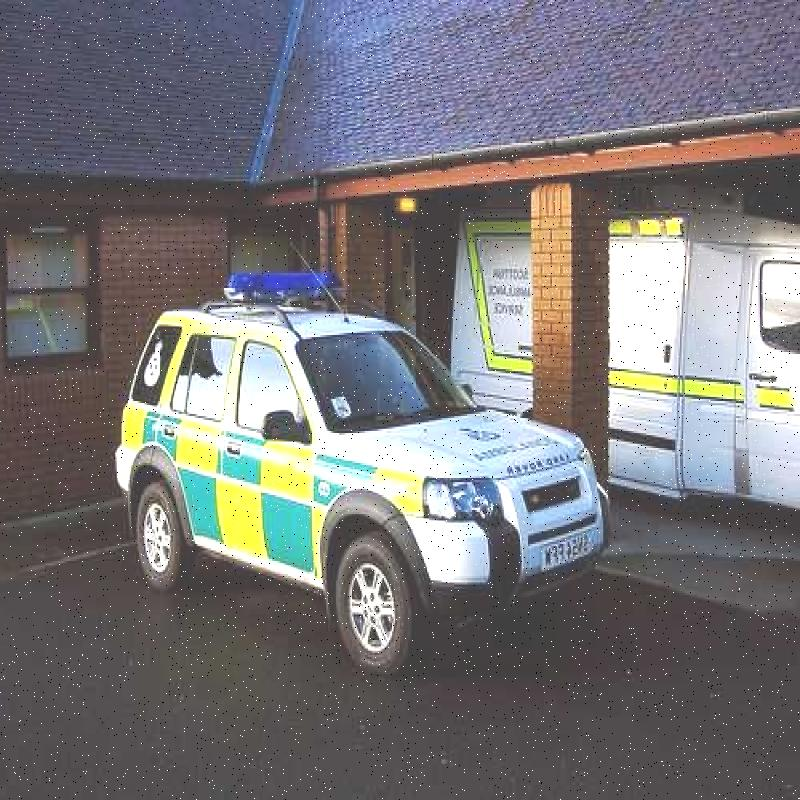AmbulanceSiren: (214, 258, 356, 315)
